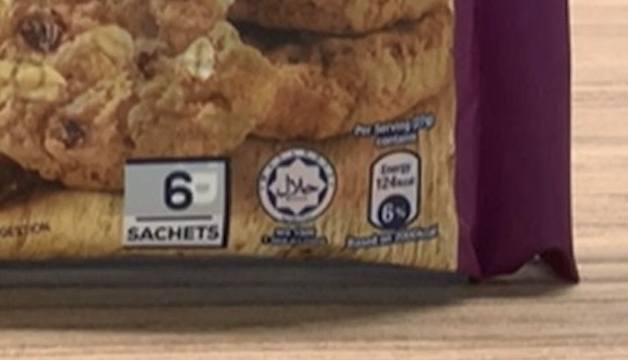halal: (272, 162, 322, 207)
